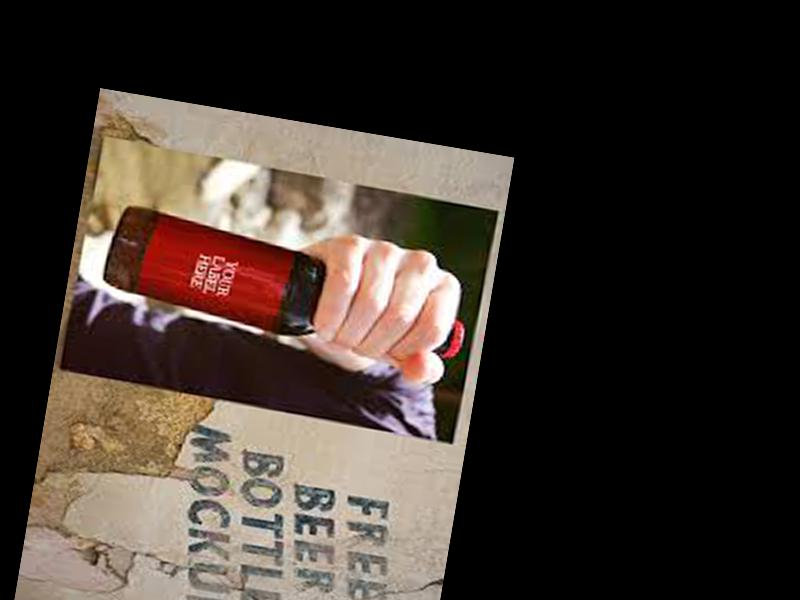Beer: (99, 202, 475, 361)
